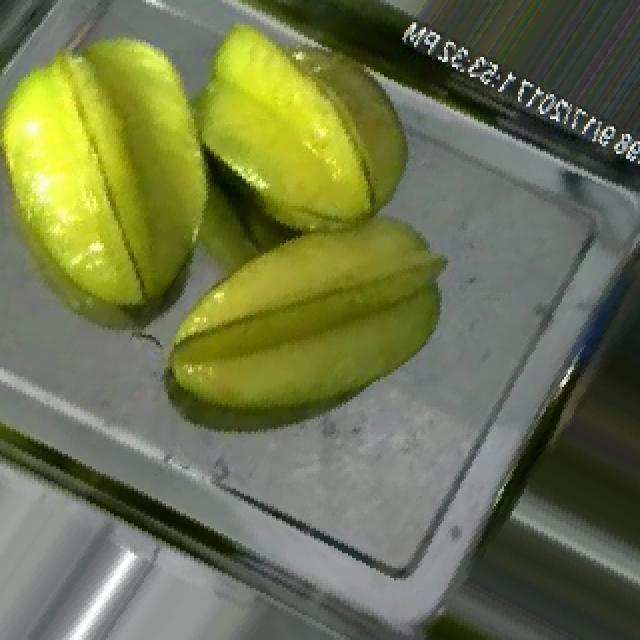fruit: (128, 149, 498, 474), (154, 5, 470, 335), (0, 5, 280, 360)
